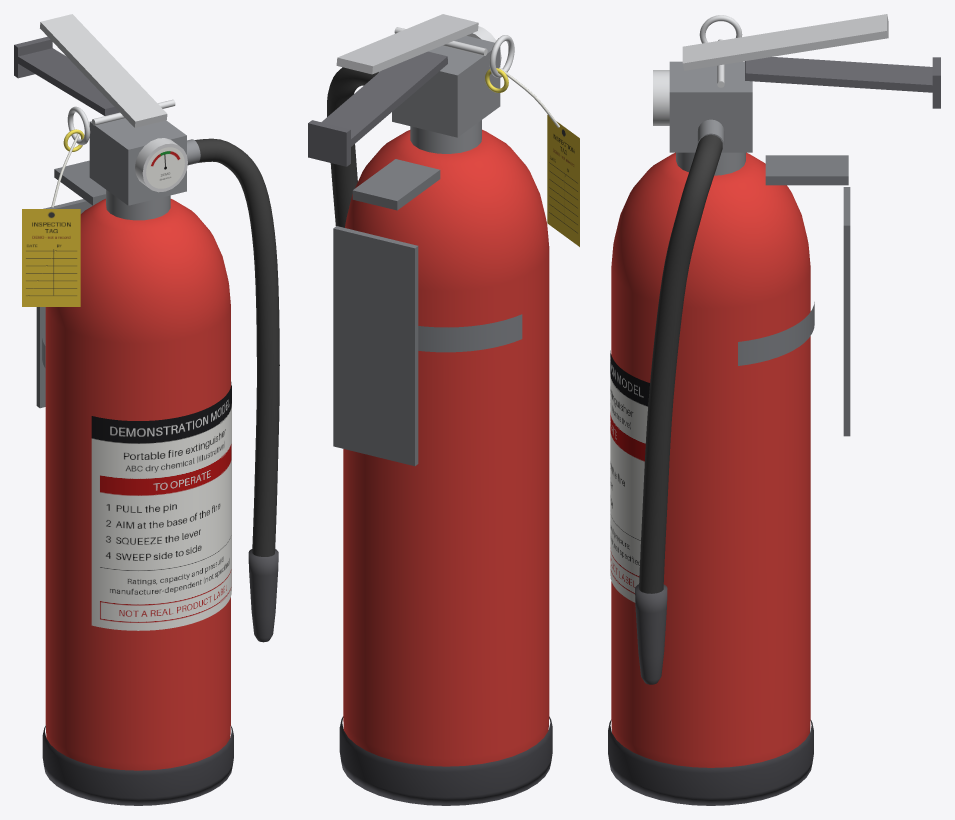
Rendered from assembly.glb.
3 renders of one model, left to right at view 1: azimuth 30°, elevation 25°; view 2: azimuth 150°, elevation 25°; view 3: azimuth 270°, elevation 25°, orthographic. The views are drawn at different scales.
Parts seen in each view (by area): view 1: cylinder_body, instructions_label, hose, cylinder_base, tag_card, valve_body, lever, handle_bar, nozzle, gauge_face, bracket_plate, bracket_hook (+3 smaller); view 2: cylinder_body, bracket_plate, cylinder_base, valve_body, handle_bar, lever, tag_card, bracket_hook, bracket_strap, hose, handle_end, valve_collar (+1 smaller); view 3: cylinder_body, hose, cylinder_base, instructions_label, valve_body, lever, handle_bar, bracket_hook, nozzle, bracket_plate, bracket_strap, gauge_housing (+1 smaller).
Boxes of the visible parts, <box> form: cylinder_body: <box>45,198,230,770</box>; instructions_label: <box>91,382,231,630</box>; hose: <box>195,138,279,556</box>; cylinder_base: <box>42,725,233,805</box>; tag_card: <box>22,209,80,306</box>; valve_body: <box>89,118,186,205</box>; lever: <box>40,14,167,127</box>; handle_bar: <box>16,48,119,115</box>; nozzle: <box>248,549,278,642</box>; gauge_face: <box>146,147,184,188</box>; bracket_plate: <box>36,199,92,408</box>; bracket_hook: <box>54,160,105,205</box>; cylinder_body: <box>343,129,549,766</box>; bracket_plate: <box>333,226,418,466</box>; cylinder_base: <box>339,716,552,805</box>; valve_body: <box>392,35,500,137</box>; handle_bar: <box>321,51,447,147</box>; lever: <box>336,14,478,74</box>; tag_card: <box>547,114,579,246</box>; bracket_hook: <box>352,159,440,210</box>; bracket_strap: <box>418,314,522,352</box>; hose: <box>327,67,378,227</box>; handle_end: <box>308,120,350,166</box>; valve_collar: <box>410,120,481,153</box>; cylinder_body: <box>611,152,810,767</box>; hose: <box>639,134,722,593</box>; cylinder_base: <box>608,720,813,805</box>; instructions_label: <box>610,350,649,602</box>; valve_body: <box>669,61,752,152</box>; lever: <box>682,14,888,70</box>; handle_bar: <box>745,57,935,92</box>; bracket_hook: <box>765,155,848,185</box>; nozzle: <box>635,584,667,684</box>; bracket_plate: <box>843,187,850,436</box>; bracket_strap: <box>738,302,814,365</box>; gauge_housing: <box>653,70,669,125</box>.
Size of the model in its own units: 0.178 by 0.4923 by 0.2005.
15 materials, 3 textured.
